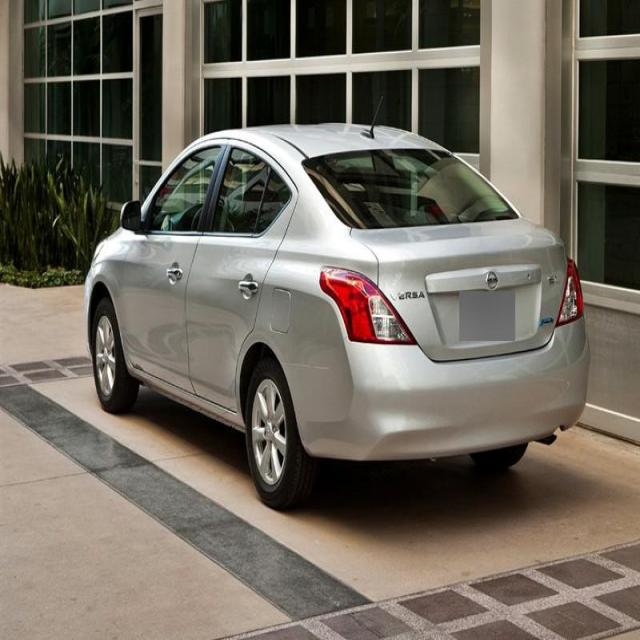back_glass: (298, 144, 520, 232)
back_left_side_light: (319, 264, 418, 347)
back_right_side_light: (554, 253, 584, 328)
door: (183, 136, 299, 396)
front_left_side_door: (126, 136, 229, 392)
front_left_side_mirror: (120, 198, 142, 232)
rear_bumper: (290, 323, 591, 464)
wheel: (246, 361, 308, 510), (91, 300, 136, 414)
